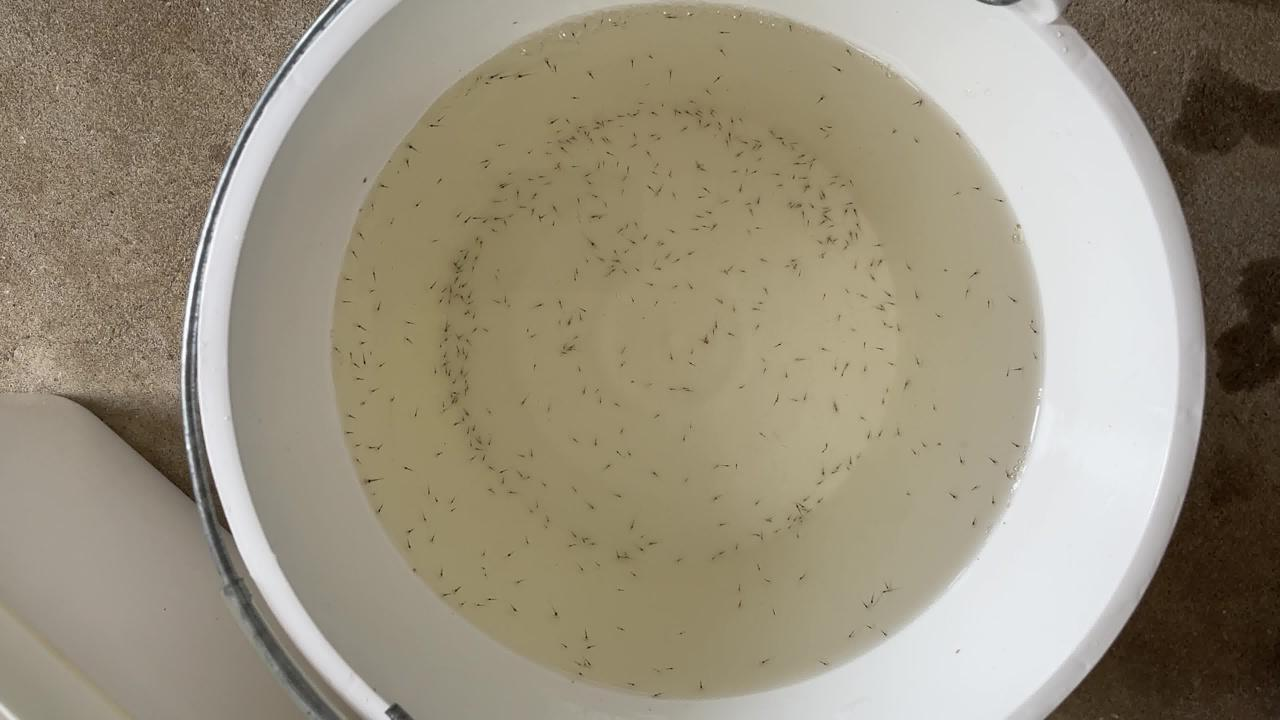shrimp: (770, 395, 782, 403), (732, 381, 744, 389), (755, 368, 767, 376), (778, 368, 790, 376), (789, 395, 801, 403), (801, 392, 813, 400), (765, 126, 777, 134), (772, 131, 784, 139), (778, 139, 790, 147), (790, 135, 802, 143), (782, 145, 794, 153), (794, 149, 806, 157), (806, 153, 818, 161), (807, 161, 819, 169), (791, 156, 803, 164), (787, 171, 799, 179), (798, 172, 810, 180), (799, 182, 811, 190), (779, 178, 791, 186), (770, 169, 782, 177), (812, 190, 824, 198), (815, 190, 827, 198), (804, 201, 816, 209), (820, 180, 832, 188), (828, 173, 840, 181), (833, 181, 845, 189), (845, 176, 857, 184), (843, 199, 855, 207), (850, 209, 862, 217), (855, 222, 867, 230), (848, 231, 860, 239), (844, 226, 856, 234), (839, 211, 851, 219), (839, 239, 851, 247), (830, 235, 842, 243), (826, 239, 838, 247), (823, 234, 835, 242), (818, 236, 830, 244), (813, 238, 825, 246), (815, 248, 827, 256), (827, 224, 839, 232), (810, 218, 822, 226), (819, 215, 831, 223), (820, 211, 832, 219), (820, 206, 832, 214), (801, 219, 813, 227), (794, 213, 806, 221), (792, 203, 804, 211), (784, 204, 796, 212), (782, 198, 794, 206), (752, 170, 764, 178), (741, 166, 753, 174), (730, 165, 742, 173), (754, 156, 766, 164), (755, 141, 767, 149), (748, 143, 760, 151), (750, 137, 762, 145), (739, 138, 751, 146), (734, 117, 746, 125), (725, 116, 737, 124), (724, 131, 736, 139), (718, 139, 730, 147), (731, 150, 743, 158), (734, 181, 746, 189), (753, 197, 765, 205), (739, 199, 751, 207), (747, 205, 759, 213), (794, 269, 806, 277), (787, 264, 799, 272), (779, 264, 791, 272), (786, 257, 798, 265), (759, 257, 771, 265), (750, 224, 762, 232), (720, 198, 732, 206), (703, 206, 715, 214), (691, 210, 703, 218), (707, 221, 719, 229), (698, 224, 710, 232), (686, 224, 698, 232), (669, 225, 681, 233), (692, 194, 704, 202), (697, 185, 709, 193), (697, 167, 709, 175), (691, 162, 703, 170), (714, 117, 726, 125), (713, 132, 725, 140), (729, 264, 741, 272), (717, 268, 729, 276), (740, 264, 752, 272), (760, 284, 772, 292), (871, 239, 883, 247), (877, 257, 889, 265), (848, 260, 860, 268), (866, 259, 878, 267), (879, 288, 891, 296), (888, 299, 900, 307), (869, 306, 881, 314), (878, 302, 890, 310), (856, 291, 868, 299), (866, 272, 878, 280), (841, 286, 853, 294), (833, 312, 845, 320), (820, 290, 832, 298), (770, 340, 782, 348), (755, 355, 767, 363), (752, 324, 764, 332), (749, 304, 761, 312), (753, 299, 765, 307), (728, 306, 740, 314), (724, 327, 736, 335), (715, 296, 727, 304), (713, 317, 725, 325), (708, 325, 720, 333), (699, 338, 711, 346), (686, 346, 698, 354), (687, 360, 699, 368), (676, 382, 688, 390), (679, 388, 691, 396), (665, 386, 677, 394), (663, 350, 675, 358), (668, 284, 680, 292), (683, 284, 695, 292), (682, 248, 694, 256), (669, 257, 681, 265), (697, 125, 709, 133), (706, 111, 718, 119), (705, 103, 717, 111), (695, 105, 707, 113), (693, 111, 705, 119), (684, 106, 696, 114), (685, 100, 697, 108), (676, 108, 688, 116), (668, 108, 680, 116), (680, 123, 692, 131), (645, 106, 657, 114), (655, 98, 667, 106), (662, 170, 674, 178), (667, 189, 679, 197), (648, 137, 660, 145), (645, 130, 657, 138), (643, 150, 655, 158), (650, 158, 662, 166), (646, 180, 658, 188), (654, 184, 666, 192), (653, 238, 665, 246), (637, 228, 649, 236), (657, 251, 669, 259), (650, 262, 662, 270), (629, 217, 641, 225), (616, 224, 628, 232), (625, 235, 637, 243), (628, 128, 640, 136), (625, 143, 637, 151), (622, 161, 634, 169), (617, 174, 629, 182), (616, 185, 628, 193), (612, 159, 624, 167), (621, 107, 633, 115), (612, 110, 624, 118), (605, 115, 617, 123), (598, 115, 610, 123), (593, 116, 605, 124), (589, 121, 601, 129), (630, 111, 642, 119), (634, 96, 646, 104), (640, 80, 652, 88), (663, 66, 675, 74), (702, 85, 714, 93), (711, 72, 723, 80), (717, 43, 729, 51), (721, 25, 733, 33), (825, 119, 837, 127), (814, 125, 826, 133), (821, 132, 833, 140), (812, 94, 824, 102), (832, 61, 844, 69), (841, 47, 853, 55), (783, 22, 795, 30), (664, 13, 676, 21), (518, 74, 530, 82), (500, 72, 512, 80), (485, 72, 497, 80), (480, 80, 492, 88), (536, 58, 548, 66), (549, 66, 561, 74), (582, 71, 594, 79), (632, 58, 644, 66), (594, 17, 606, 25), (580, 20, 592, 28), (566, 29, 578, 37), (568, 87, 580, 95), (545, 115, 557, 123), (437, 113, 449, 121), (426, 121, 438, 129), (605, 135, 617, 143), (600, 137, 612, 145), (586, 138, 598, 146), (584, 128, 596, 136), (574, 126, 586, 134), (560, 114, 572, 122), (550, 124, 562, 132), (600, 152, 612, 160), (600, 198, 612, 206), (640, 279, 652, 287), (633, 265, 645, 273), (618, 242, 630, 250), (587, 239, 599, 247), (587, 212, 599, 220), (594, 214, 606, 222), (588, 194, 600, 202), (582, 179, 594, 187), (579, 170, 591, 178), (589, 161, 601, 169), (572, 161, 584, 169), (557, 144, 569, 152), (561, 137, 573, 145), (565, 134, 577, 142), (541, 137, 553, 145), (538, 151, 550, 159), (527, 148, 539, 156), (491, 138, 503, 146), (477, 152, 489, 160), (484, 161, 496, 169), (433, 174, 445, 182), (407, 197, 419, 205), (387, 216, 399, 224), (398, 158, 410, 166), (404, 140, 416, 148), (534, 210, 546, 218), (538, 212, 550, 220), (527, 206, 539, 214), (549, 162, 561, 170), (540, 178, 552, 186), (531, 169, 543, 177), (524, 176, 536, 184), (494, 181, 506, 189), (499, 184, 511, 192), (510, 191, 522, 199), (514, 202, 526, 210), (529, 191, 541, 199), (549, 204, 561, 212), (591, 255, 603, 263), (607, 269, 619, 277), (605, 261, 617, 269), (611, 255, 623, 263), (619, 265, 631, 273), (857, 339, 869, 347), (816, 445, 828, 453), (795, 499, 807, 507), (800, 492, 812, 500), (800, 506, 812, 514), (815, 496, 827, 504), (814, 480, 826, 488), (790, 502, 802, 510), (795, 512, 807, 520), (788, 515, 800, 523), (783, 507, 795, 515), (783, 521, 795, 529), (790, 528, 802, 536), (794, 517, 806, 525), (817, 471, 829, 479), (830, 406, 842, 414), (841, 361, 853, 369), (834, 373, 846, 381), (830, 363, 842, 371), (817, 343, 829, 351), (792, 354, 804, 362), (450, 210, 462, 218), (458, 215, 470, 223), (471, 210, 483, 218), (492, 195, 504, 203), (505, 208, 517, 216), (487, 211, 499, 219), (498, 216, 510, 224), (477, 218, 489, 226), (486, 225, 498, 233), (572, 264, 584, 272), (569, 273, 581, 281), (583, 254, 595, 262), (570, 198, 582, 206), (547, 219, 559, 227), (573, 306, 585, 314), (554, 297, 566, 305), (532, 299, 544, 307), (478, 243, 490, 251), (473, 236, 485, 244), (432, 235, 444, 243), (374, 179, 386, 187), (355, 230, 367, 238), (350, 249, 362, 257), (342, 272, 354, 280), (342, 293, 354, 301), (367, 267, 379, 275), (367, 208, 379, 216), (882, 129, 894, 137), (910, 137, 922, 145), (910, 97, 922, 105), (915, 100, 927, 108), (955, 124, 967, 132), (995, 195, 1007, 203), (976, 187, 988, 195), (948, 190, 960, 198), (447, 259, 459, 267), (451, 264, 463, 272), (453, 268, 465, 276), (450, 248, 462, 256), (459, 252, 471, 260), (469, 254, 481, 262), (465, 264, 477, 272), (557, 338, 569, 346), (554, 352, 566, 360), (563, 346, 575, 354), (566, 339, 578, 347), (563, 314, 575, 322), (556, 319, 568, 327), (520, 323, 532, 331), (526, 331, 538, 339), (498, 295, 510, 303), (492, 297, 504, 305), (461, 283, 473, 291), (452, 283, 464, 291), (424, 280, 436, 288), (437, 284, 449, 292), (465, 298, 477, 306), (433, 296, 445, 304), (452, 293, 464, 301), (445, 297, 457, 305), (369, 283, 381, 291), (371, 301, 383, 309), (616, 361, 628, 369), (616, 345, 628, 353), (624, 297, 636, 305), (652, 299, 664, 307), (628, 374, 640, 382), (609, 399, 621, 407), (592, 396, 604, 404), (592, 388, 604, 396), (544, 406, 556, 414), (521, 395, 533, 403), (528, 364, 540, 372), (574, 385, 586, 393), (572, 365, 584, 373), (398, 335, 410, 343), (405, 317, 417, 325), (354, 323, 366, 331), (333, 346, 345, 354), (365, 475, 377, 483), (354, 458, 366, 466), (365, 441, 377, 449), (375, 441, 387, 449), (411, 408, 423, 416), (440, 319, 452, 327), (444, 322, 456, 330), (355, 338, 367, 346), (342, 350, 354, 358), (375, 360, 387, 368), (386, 394, 398, 402), (345, 413, 357, 421), (353, 440, 365, 448), (342, 429, 354, 437), (356, 401, 368, 409), (365, 385, 377, 393), (360, 356, 372, 364), (350, 362, 362, 370), (353, 373, 365, 381), (457, 309, 469, 317), (468, 315, 480, 323), (478, 326, 490, 334), (467, 327, 479, 335), (432, 340, 444, 348), (437, 335, 449, 343), (463, 336, 475, 344), (462, 351, 474, 359), (449, 342, 461, 350), (455, 346, 467, 354), (450, 330, 462, 338), (456, 330, 468, 338), (425, 366, 437, 374), (436, 348, 448, 356), (438, 357, 450, 365), (438, 365, 450, 373), (442, 367, 454, 375), (459, 370, 471, 378), (457, 368, 469, 376), (460, 376, 472, 384), (446, 374, 458, 382), (460, 385, 472, 393), (451, 386, 463, 394), (443, 390, 455, 398), (437, 396, 449, 404), (437, 404, 449, 412), (443, 397, 455, 405), (449, 397, 461, 405), (432, 450, 444, 458), (403, 466, 415, 474), (372, 505, 384, 513), (401, 542, 413, 550), (422, 535, 434, 543), (448, 507, 460, 515), (445, 497, 457, 505), (401, 525, 413, 533), (416, 512, 428, 520), (429, 498, 441, 506), (422, 488, 434, 496), (464, 456, 476, 464), (476, 547, 488, 555), (506, 550, 518, 558), (523, 449, 535, 457), (513, 449, 525, 457), (483, 405, 495, 413), (460, 405, 472, 413), (482, 438, 494, 446), (447, 417, 459, 425), (470, 422, 482, 430), (456, 415, 468, 423), (470, 430, 482, 438), (470, 444, 482, 452), (463, 437, 475, 445), (460, 424, 472, 432), (476, 451, 488, 459), (484, 463, 496, 471), (498, 466, 510, 474), (521, 473, 533, 481), (511, 465, 523, 473), (503, 488, 515, 496), (482, 487, 494, 495), (487, 491, 499, 499), (493, 477, 505, 485), (564, 434, 576, 442), (588, 438, 600, 446), (988, 458, 1000, 466), (1009, 439, 1021, 447), (1013, 365, 1025, 373), (1001, 369, 1013, 377), (1029, 353, 1041, 361), (1029, 329, 1041, 337), (1025, 315, 1037, 323), (1008, 295, 1020, 303), (967, 268, 979, 276), (983, 298, 995, 306), (962, 287, 974, 295), (932, 313, 944, 321), (912, 293, 924, 301), (904, 263, 916, 271), (431, 569, 443, 577), (436, 589, 448, 597), (453, 583, 465, 591), (479, 565, 491, 573), (511, 578, 523, 586), (509, 606, 521, 614), (483, 593, 495, 601), (455, 598, 467, 606), (473, 599, 485, 607), (571, 658, 583, 666), (578, 660, 590, 668), (583, 656, 595, 664), (574, 667, 586, 675), (559, 638, 571, 646), (584, 642, 596, 650), (581, 633, 593, 641), (549, 609, 561, 617), (625, 680, 637, 688), (698, 684, 710, 692), (648, 691, 660, 699), (660, 665, 672, 673), (651, 665, 663, 673), (673, 629, 685, 637), (609, 449, 621, 457), (601, 461, 613, 469), (583, 504, 595, 512), (609, 552, 621, 560), (619, 554, 631, 562), (619, 548, 631, 556), (647, 540, 659, 548), (637, 544, 649, 552), (628, 523, 640, 531), (611, 492, 623, 500), (623, 449, 635, 457), (650, 412, 662, 420), (617, 427, 629, 435), (540, 479, 552, 487), (523, 534, 535, 542), (562, 542, 574, 550), (613, 590, 625, 598), (615, 626, 627, 634), (625, 570, 637, 578), (592, 558, 604, 566), (585, 539, 597, 547), (573, 562, 585, 570), (576, 541, 588, 549), (579, 532, 591, 540), (570, 531, 582, 539), (538, 524, 550, 532), (540, 516, 552, 524), (525, 507, 537, 515), (532, 503, 544, 511), (567, 486, 579, 494), (891, 323, 903, 331), (950, 450, 962, 458), (986, 498, 998, 506), (968, 515, 980, 523), (971, 482, 983, 490), (949, 492, 961, 500), (880, 587, 892, 595), (878, 630, 890, 638), (864, 596, 876, 604), (863, 620, 875, 628), (859, 597, 871, 605), (846, 632, 858, 640), (814, 660, 826, 668), (758, 655, 770, 663), (675, 555, 687, 563), (682, 435, 694, 443), (646, 468, 658, 476), (915, 359, 927, 367), (873, 345, 885, 353), (825, 469, 837, 477), (829, 461, 841, 469), (839, 467, 851, 475), (853, 454, 865, 462), (846, 460, 858, 468), (770, 530, 782, 538), (792, 574, 804, 582), (769, 608, 781, 616), (735, 598, 747, 606), (765, 575, 777, 583), (734, 582, 746, 590), (751, 563, 763, 571), (757, 536, 769, 544), (749, 532, 761, 540), (760, 514, 772, 522), (750, 498, 762, 506), (705, 555, 717, 563), (714, 549, 726, 557), (730, 543, 742, 551), (721, 460, 733, 468), (731, 463, 743, 471), (716, 520, 728, 528), (711, 495, 723, 503), (710, 464, 722, 472), (756, 430, 768, 438), (884, 361, 896, 369), (930, 439, 942, 447), (865, 432, 877, 440), (890, 429, 902, 437), (874, 429, 886, 437), (859, 413, 871, 421), (900, 379, 912, 387), (909, 449, 921, 457), (924, 407, 936, 415), (920, 441, 932, 449), (883, 385, 895, 393), (877, 399, 889, 407), (860, 366, 872, 374), (683, 476, 695, 484)
